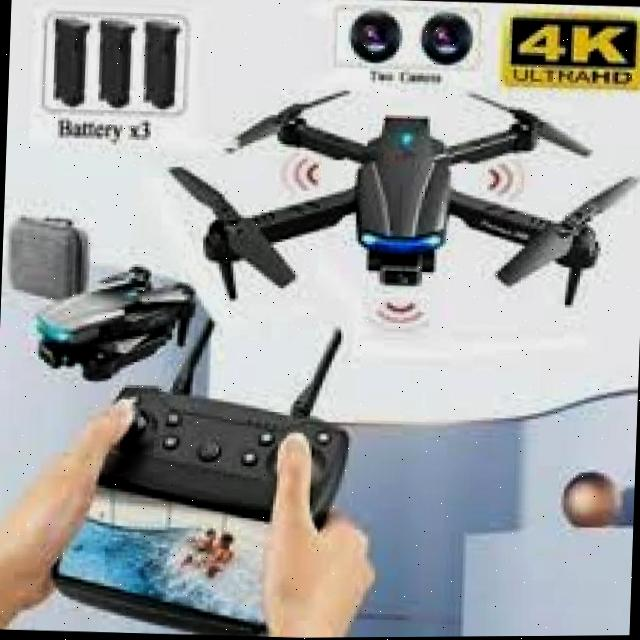drone: (160, 82, 636, 339)
